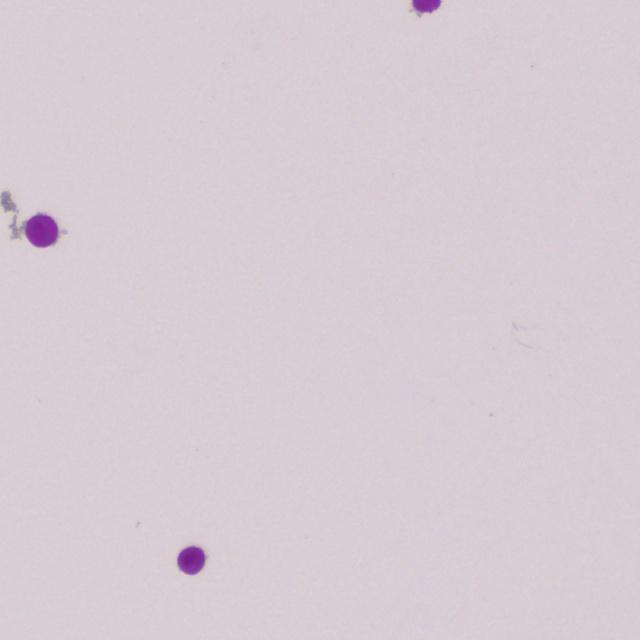viable: (26, 213, 58, 247), (178, 547, 205, 574), (413, 0, 440, 12)
